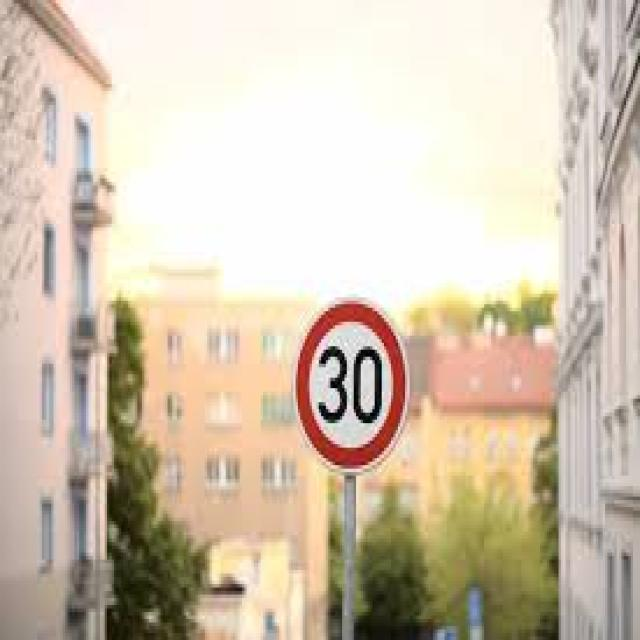Speed limit 30: (292, 295, 411, 477)
